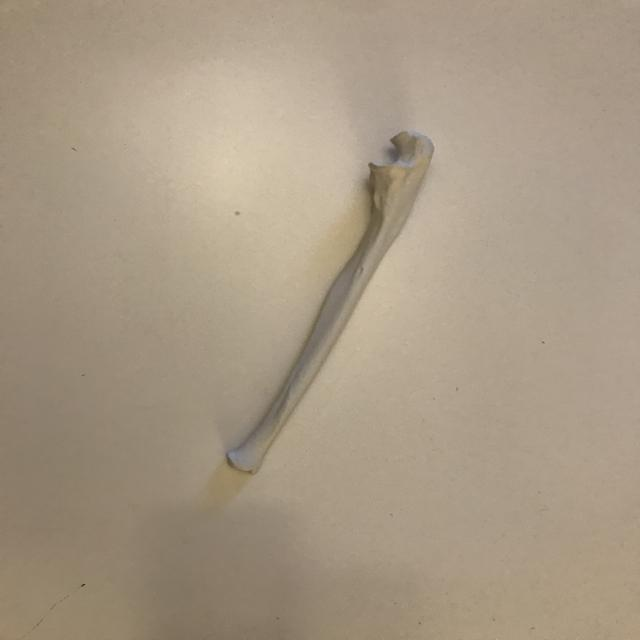bone: (220, 122, 434, 480)
